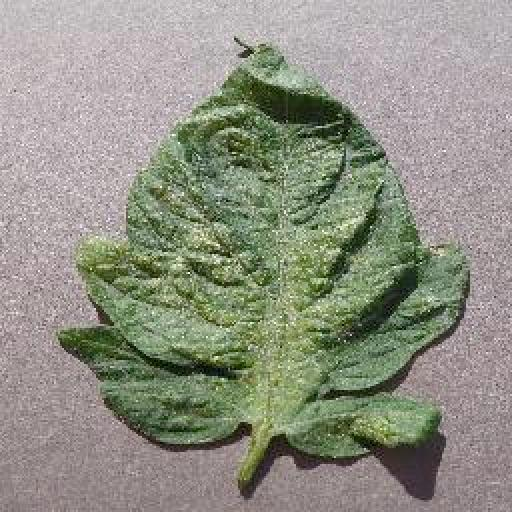disease_tomato: (58, 42, 470, 460)
